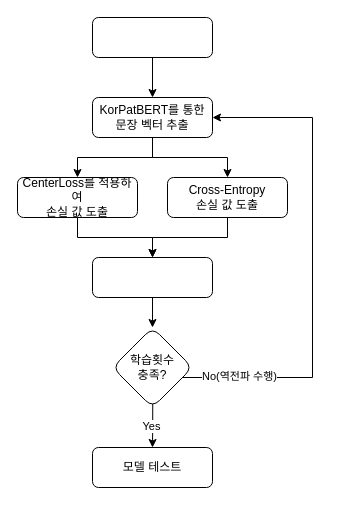
Image size: 338x505. Some labels were removed from this diagram. Each missing label, with the centre of its shape:
"데이터 분할 및 텍스트 토큰화" belongs at pixel 152 37.
"손실값 결합" belongs at pixel 152 277.
